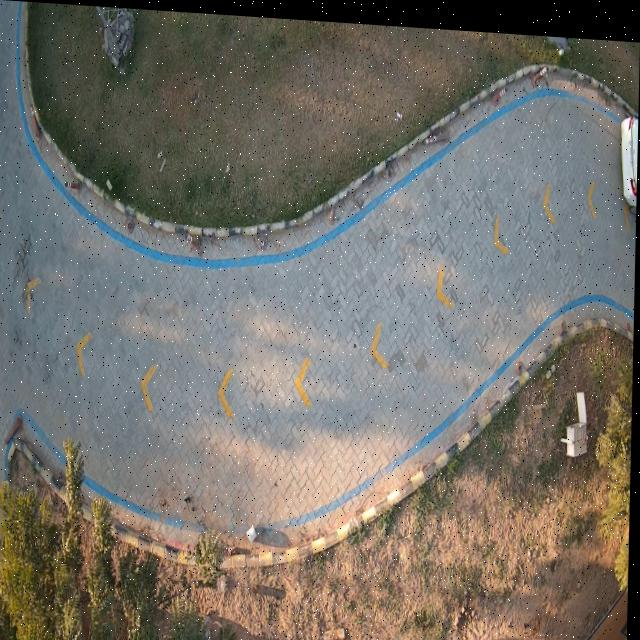car: (621, 108, 639, 204)
